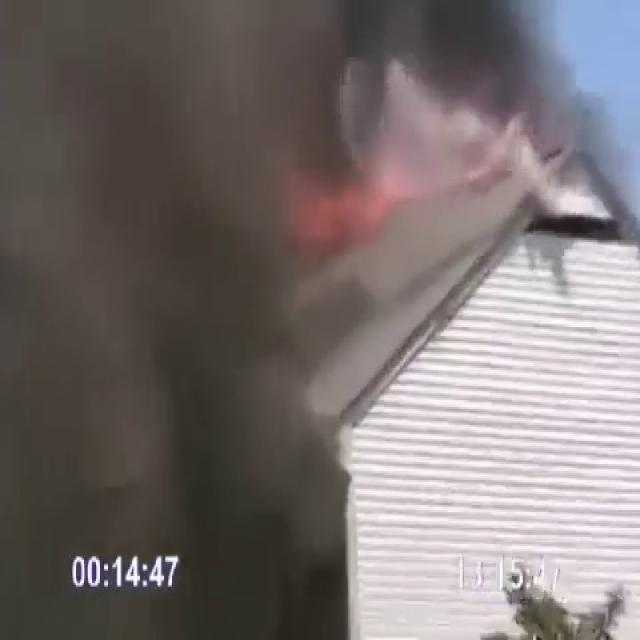Smoke: (0, 0, 371, 638), (0, 0, 601, 243)
